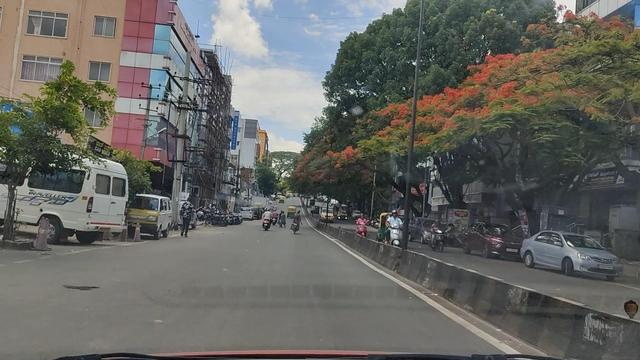RoadDamages: (61, 283, 110, 299)
